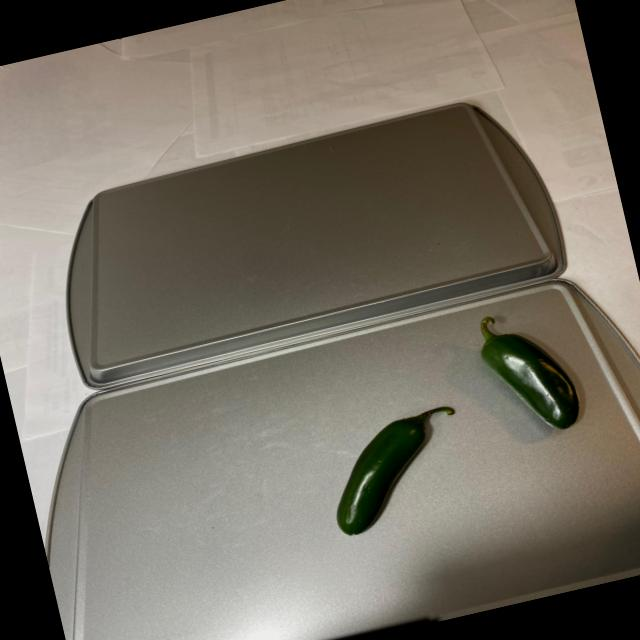chilli: (288, 291, 610, 550)
